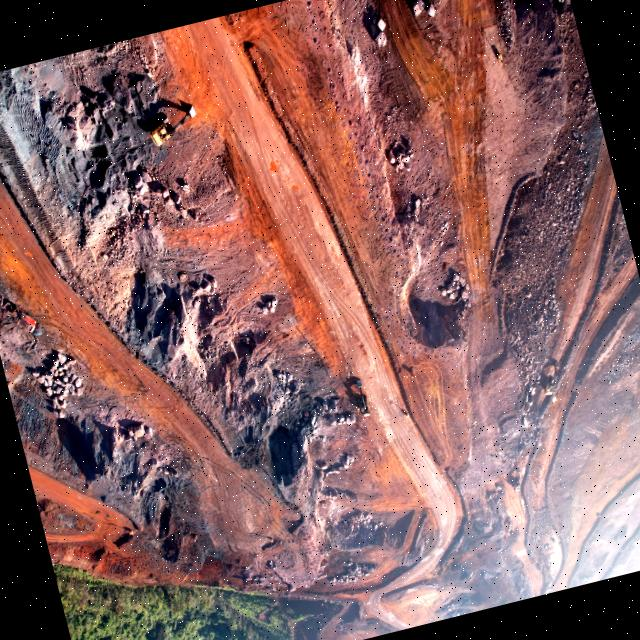Blast rig: (0, 286, 37, 341)
Excavator: (142, 102, 203, 148), (534, 358, 566, 397), (506, 466, 524, 496), (354, 388, 370, 418)
